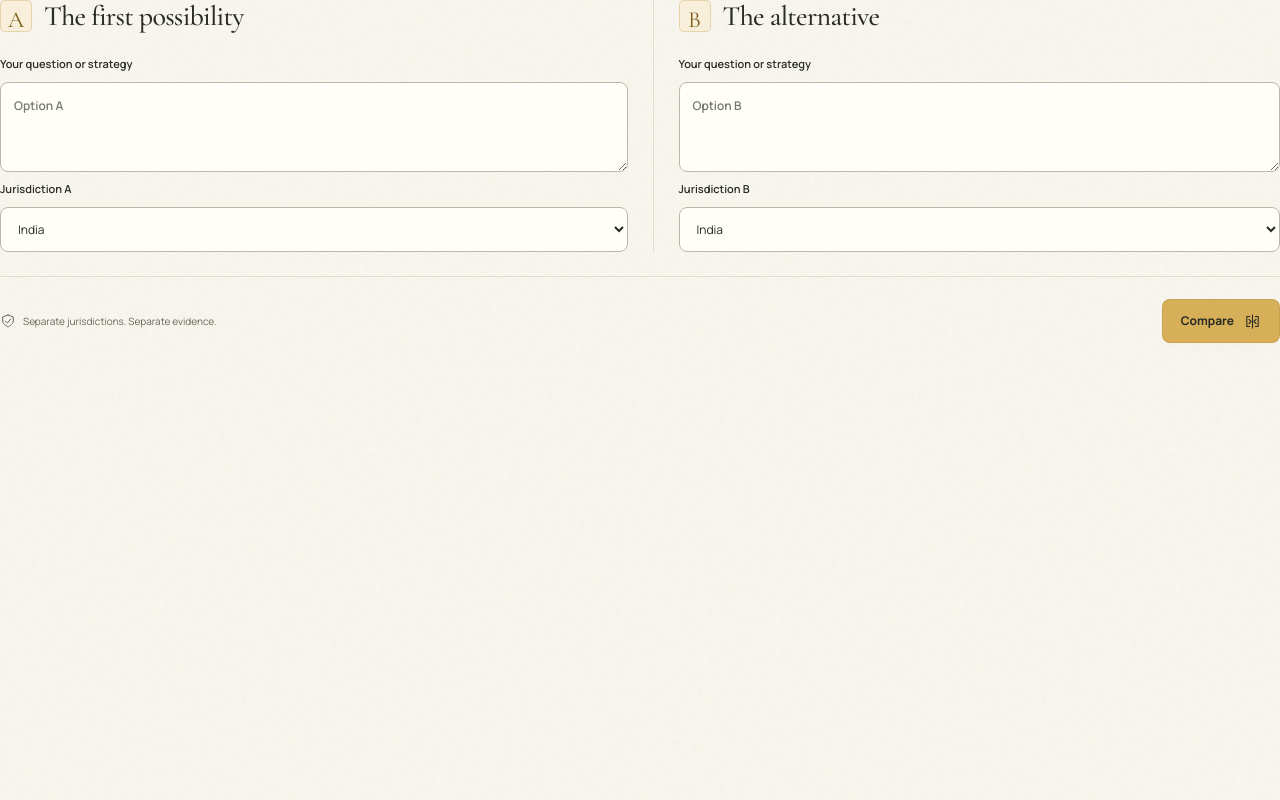
Test case: controls + compare › CompareTool renders two answers side by side
Click the button with test id "compare-run". click: (1221, 321)
box: left=1162, top=299, right=1279, bottom=343
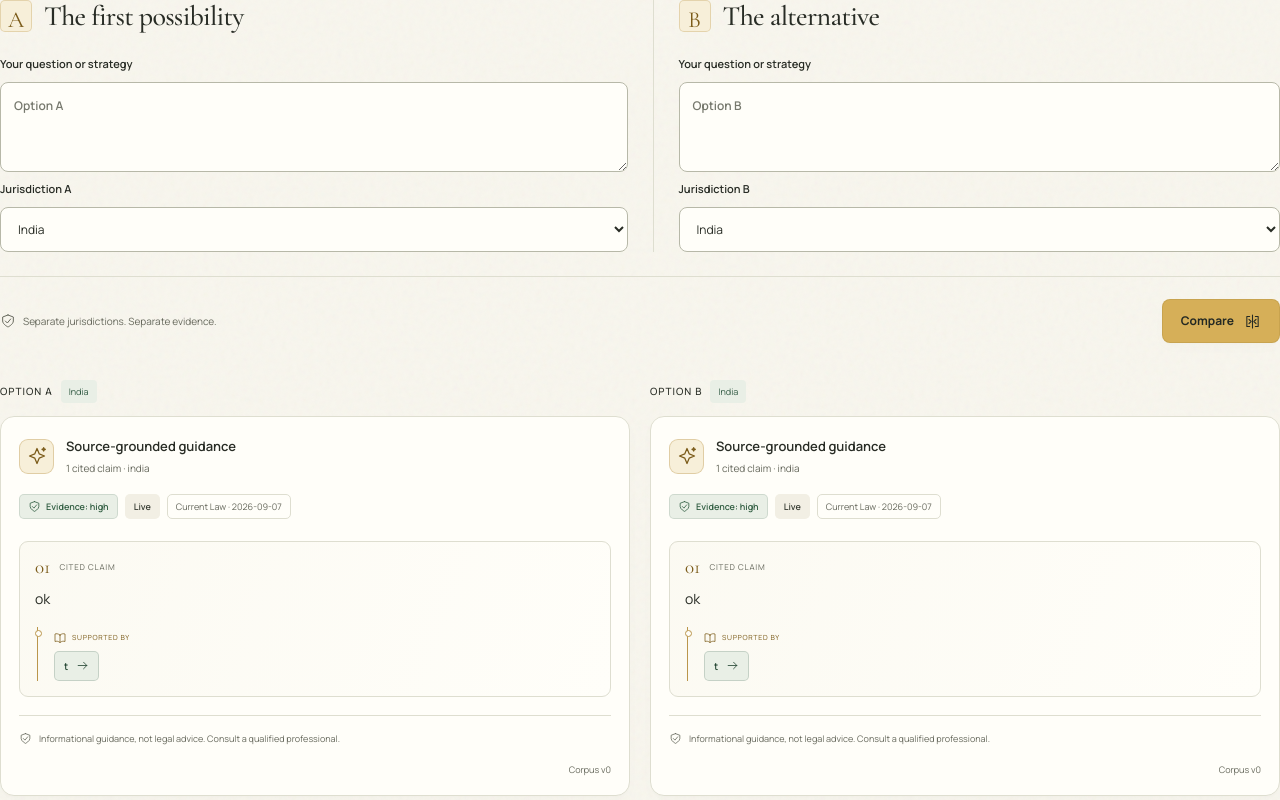
Expected: the number of elements with test id "chat-message" is 2, left=0, top=416, right=630, bottom=796; left=650, top=416, right=1279, bottom=796
